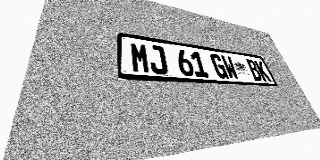1: (189, 50, 209, 77)
6: (175, 48, 195, 77)
B: (245, 59, 264, 81)
G: (209, 53, 229, 79)
J: (148, 44, 169, 75)
K: (254, 60, 272, 81)
M: (130, 42, 151, 74)
W: (220, 55, 240, 79)
